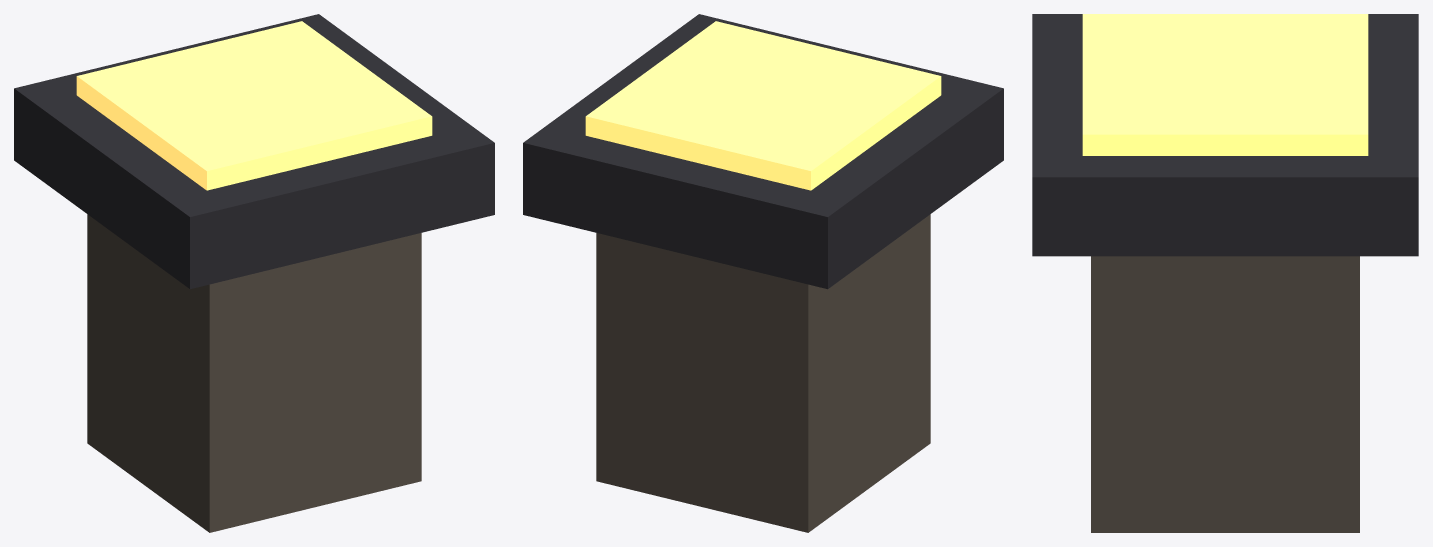
The model's file is cl-brazier.glb.
3 views of the same model, side by side, from view 1: azimuth 30°, elevation 25°; view 2: azimuth 150°, elevation 25°; view 3: azimuth 270°, elevation 25° (orthographic). The views are drawn at different scales.
Visible parts, largest first — view 1: brazier-body, brazier-coals; view 2: brazier-body, brazier-coals; view 3: brazier-body, brazier-coals.
Part boxes in pixels (x1,y1,x2,y2): brazier-body: [14, 14, 494, 532]; brazier-coals: [76, 21, 432, 190]; brazier-body: [523, 14, 1003, 532]; brazier-coals: [585, 21, 941, 190]; brazier-body: [1032, 14, 1418, 532]; brazier-coals: [1082, 14, 1368, 155].
Bounding box in the file's own units: 1.15 × 1.32 × 1.15.
